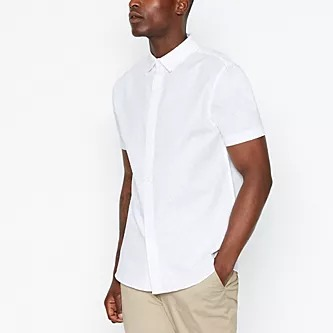C_shirt: (110, 35, 266, 294)
